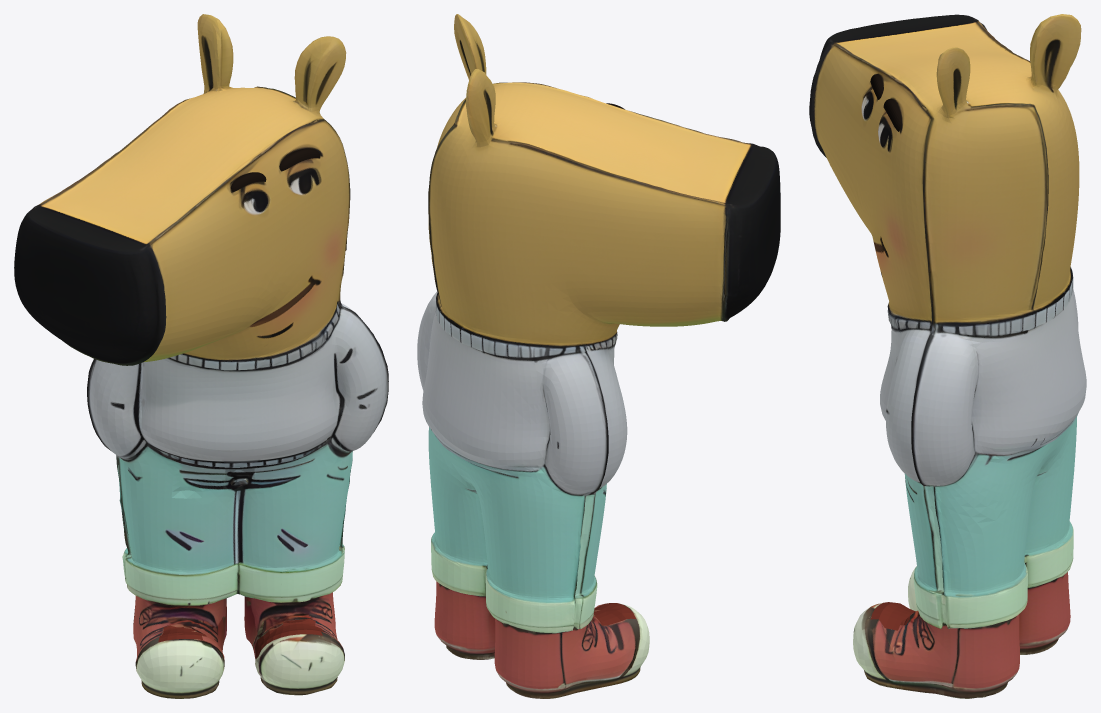
The model's file is chillguy.glb.
3 renders of one model, left to right at view 1: azimuth 30°, elevation 25°; view 2: azimuth 150°, elevation 25°; view 3: azimuth 270°, elevation 25°, orthographic. The views are drawn at different scales.
Visible parts, largest first — view 1: model; view 2: model; view 3: model.
Part boxes in pixels (x1=…): model: x1=14, y1=14, x2=388, y2=698; model: x1=417, y1=14, x2=780, y2=698; model: x1=809, y1=14, x2=1086, y2=698.
Bounding box in the file's own units: 2.33 × 3.97 × 1.53.
Materials: 3 (1 with a texture image).
